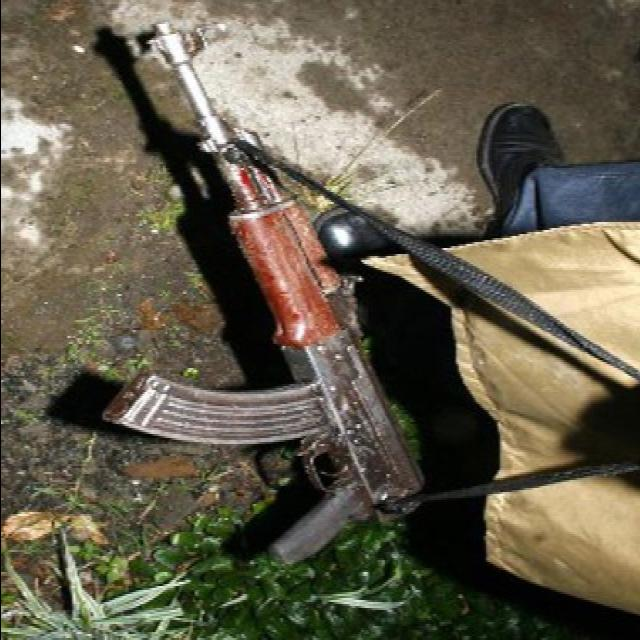rifle: (105, 17, 441, 573)
